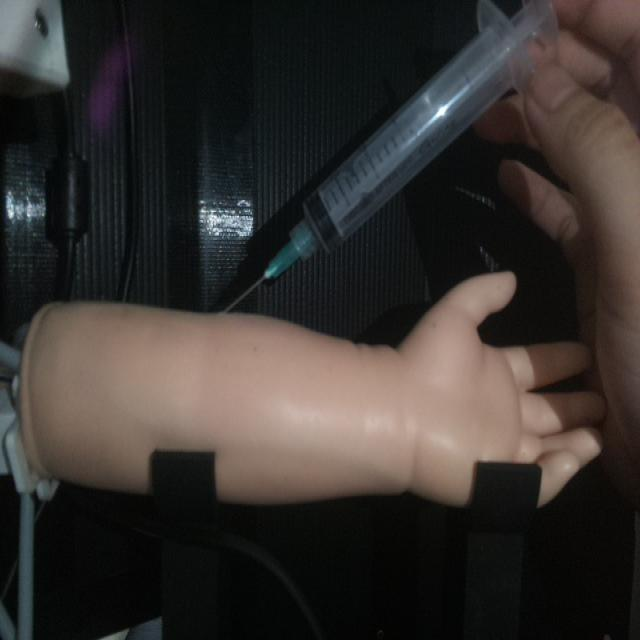Outside: (219, 0, 564, 318)
